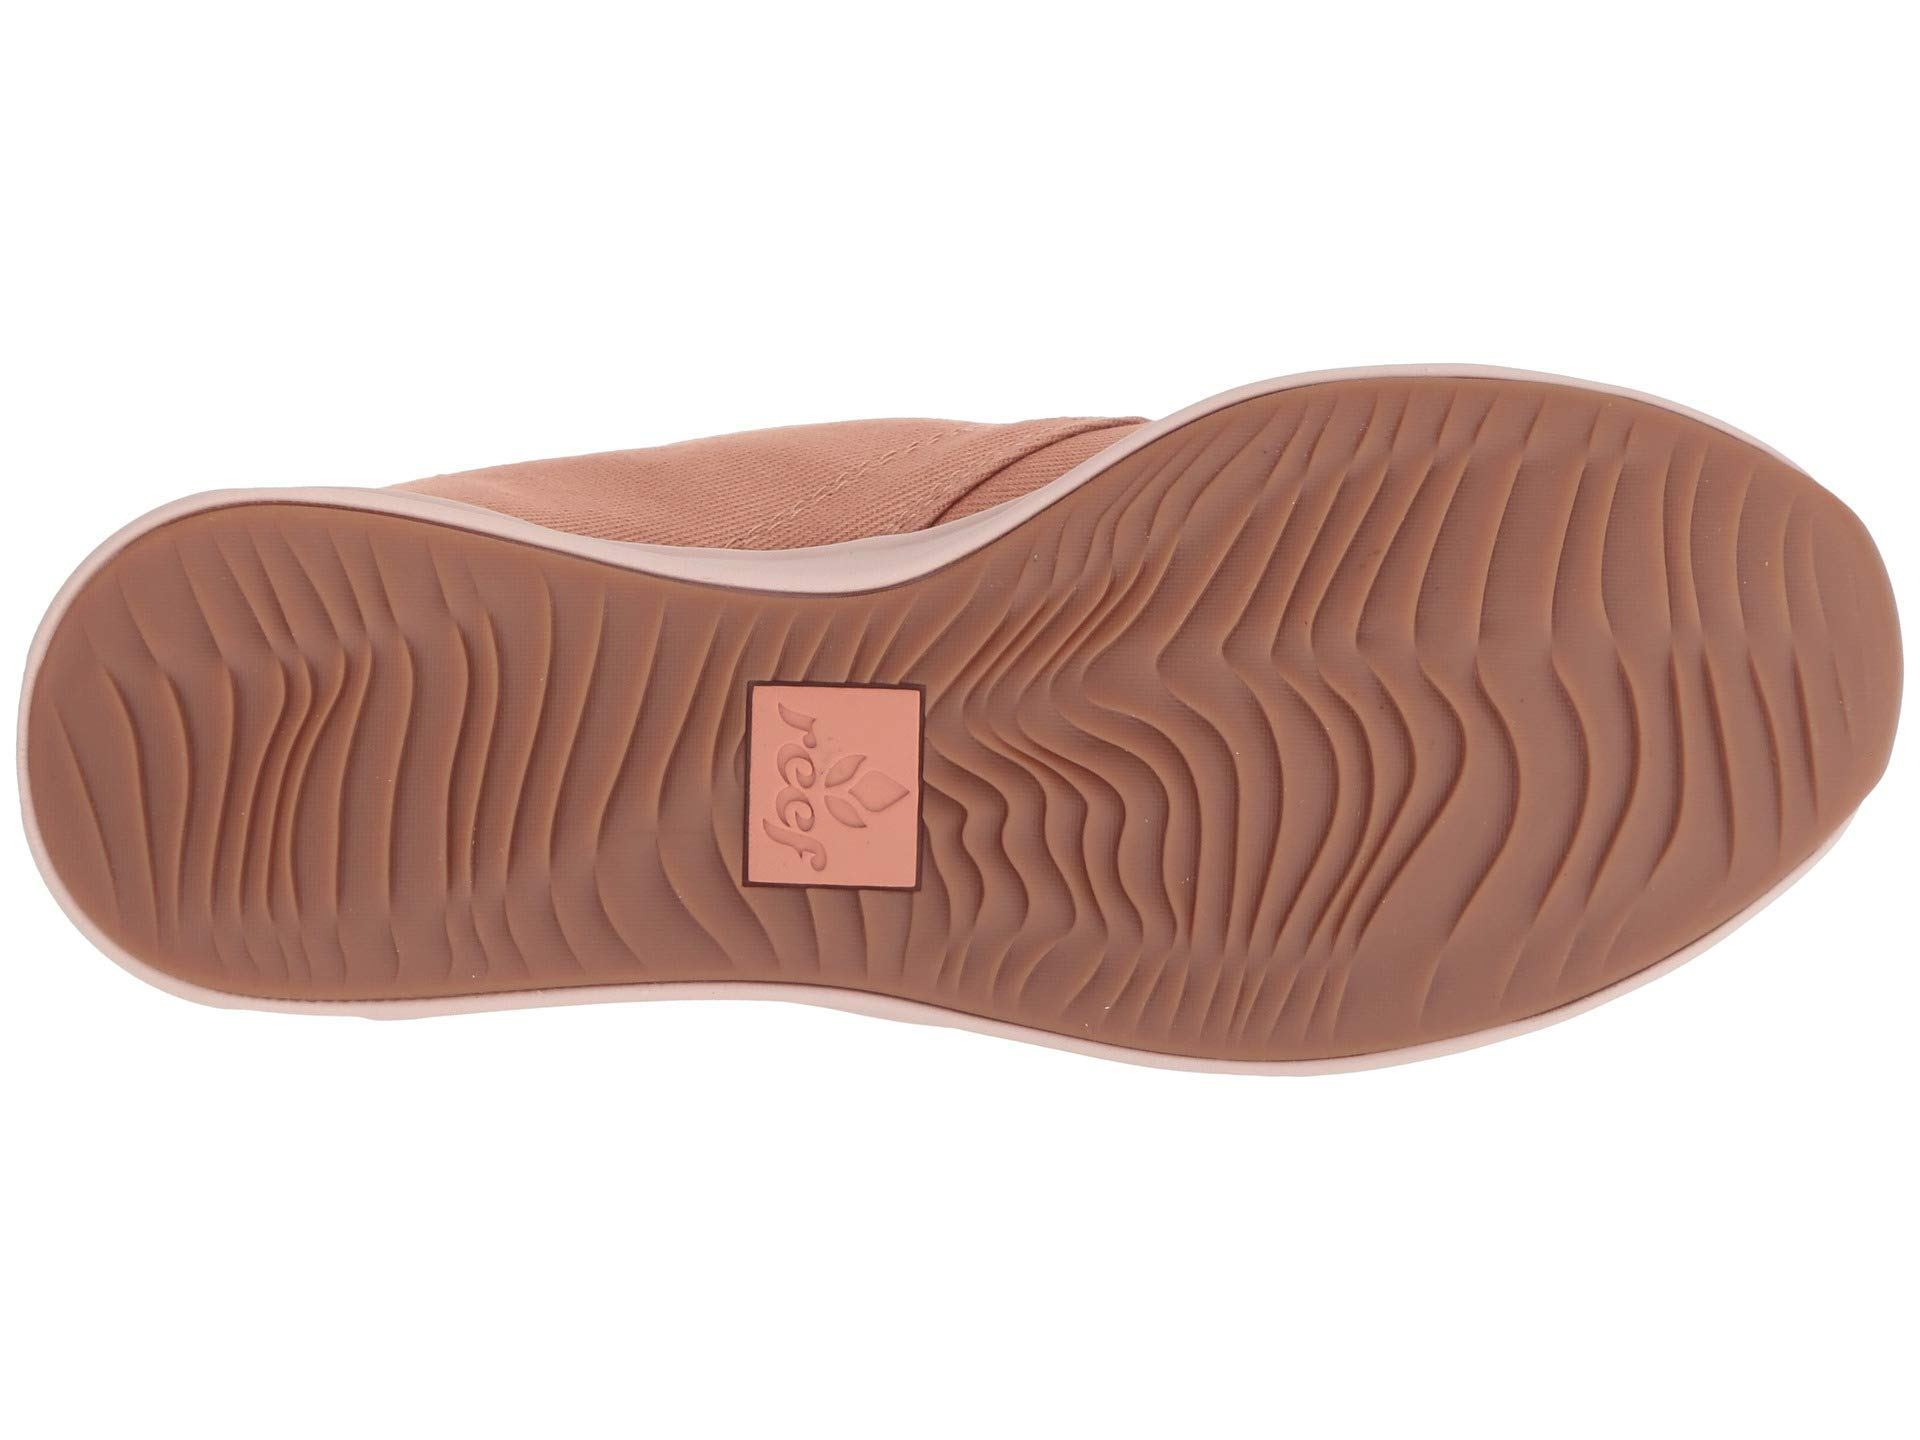chevron: (958, 461, 1689, 992)
line: (60, 604, 720, 957)
quad: (736, 669, 934, 909)
text: (736, 669, 934, 909)
